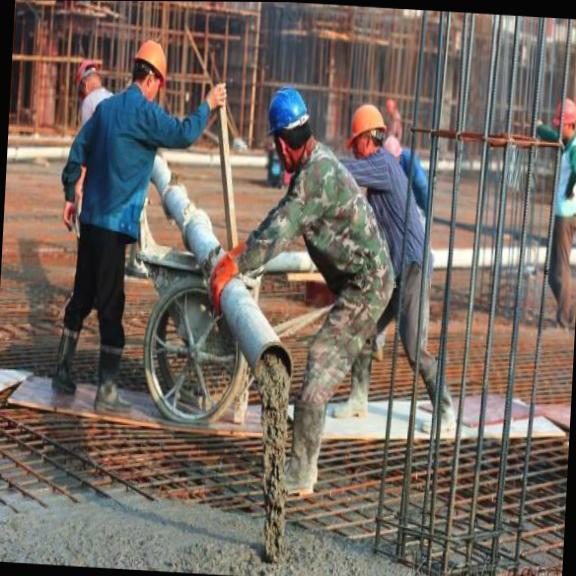no_safety_vest: (264, 144, 400, 298), (57, 84, 166, 255), (351, 149, 436, 281), (545, 138, 576, 220)
